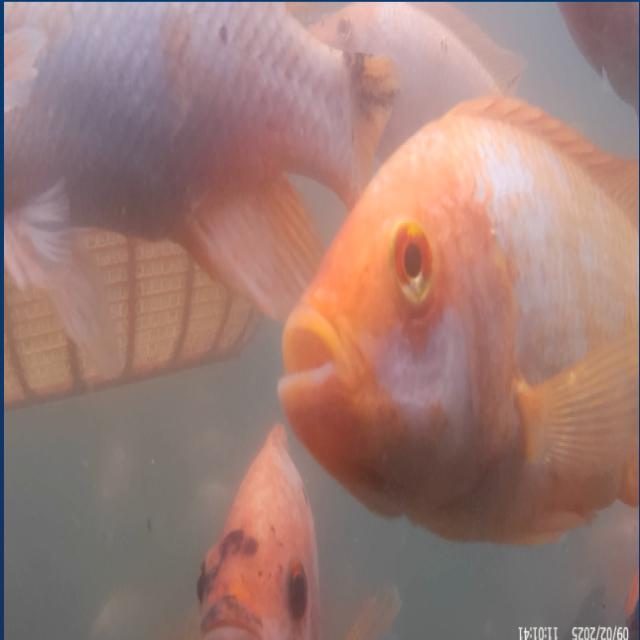ikan: (277, 89, 638, 546), (4, 0, 401, 397), (194, 420, 320, 636)
